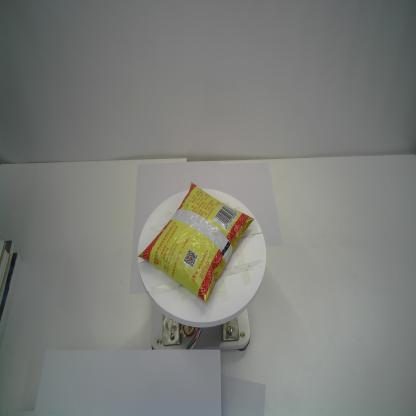Seasoner: (136, 182, 254, 302)
